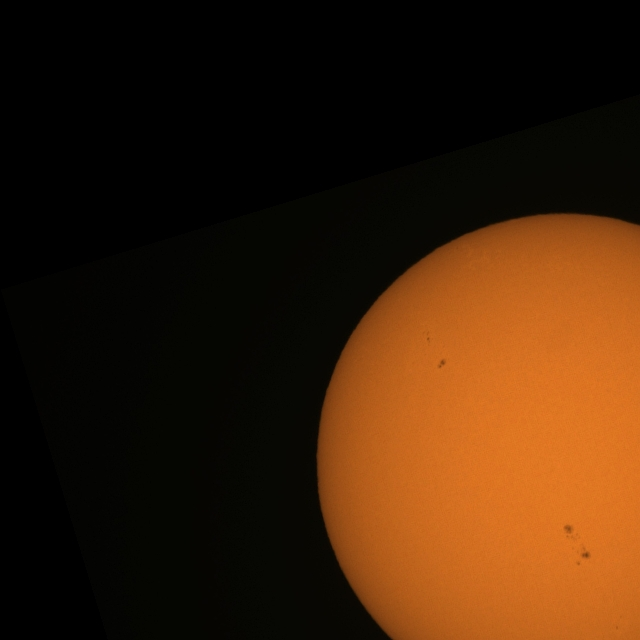sunspot: (563, 524, 591, 564), (570, 539, 592, 566), (563, 524, 584, 548), (437, 358, 446, 370), (424, 330, 432, 342), (615, 625, 620, 631)
